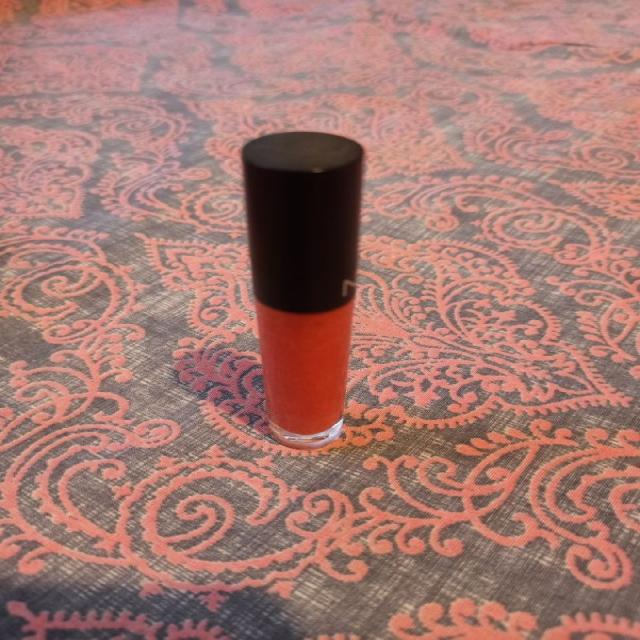lipstick: (240, 130, 363, 449)
